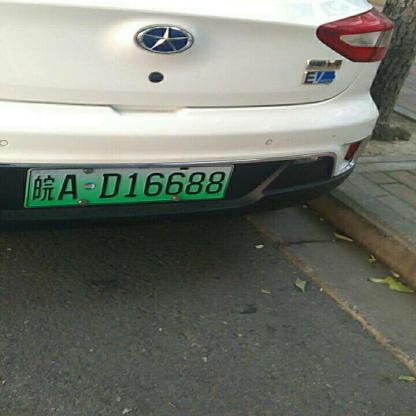lp: (31, 166, 222, 206)
